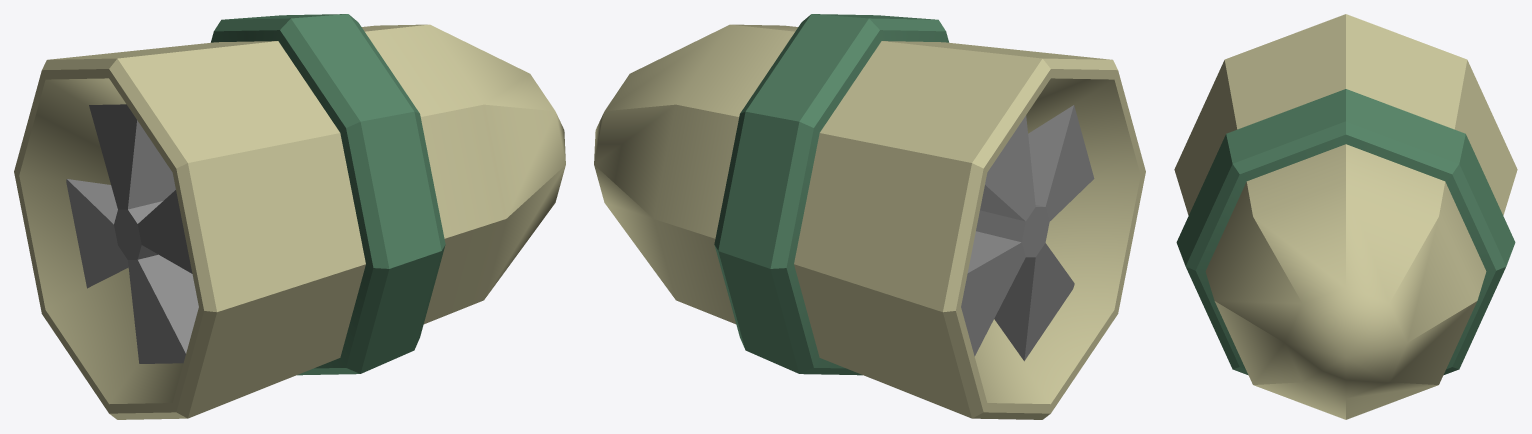
The model's file is Engine_3.fbx.
3 views of the same model, side by side, from view 1: azimuth 30°, elevation 25°; view 2: azimuth 150°, elevation 25°; view 3: azimuth 270°, elevation 25° (orthographic). The views are drawn at different scales.
Parts seen in each view (by area): view 1: Engine_surf; view 2: Engine_surf; view 3: Engine_surf.
Part boxes in pixels (x1,y1,x2,y2): Engine_surf: [14, 14, 565, 419]; Engine_surf: [594, 14, 1145, 419]; Engine_surf: [1174, 14, 1517, 419].
Bounding box in the file's own units: 18.9 × 14.33 × 14.33.
